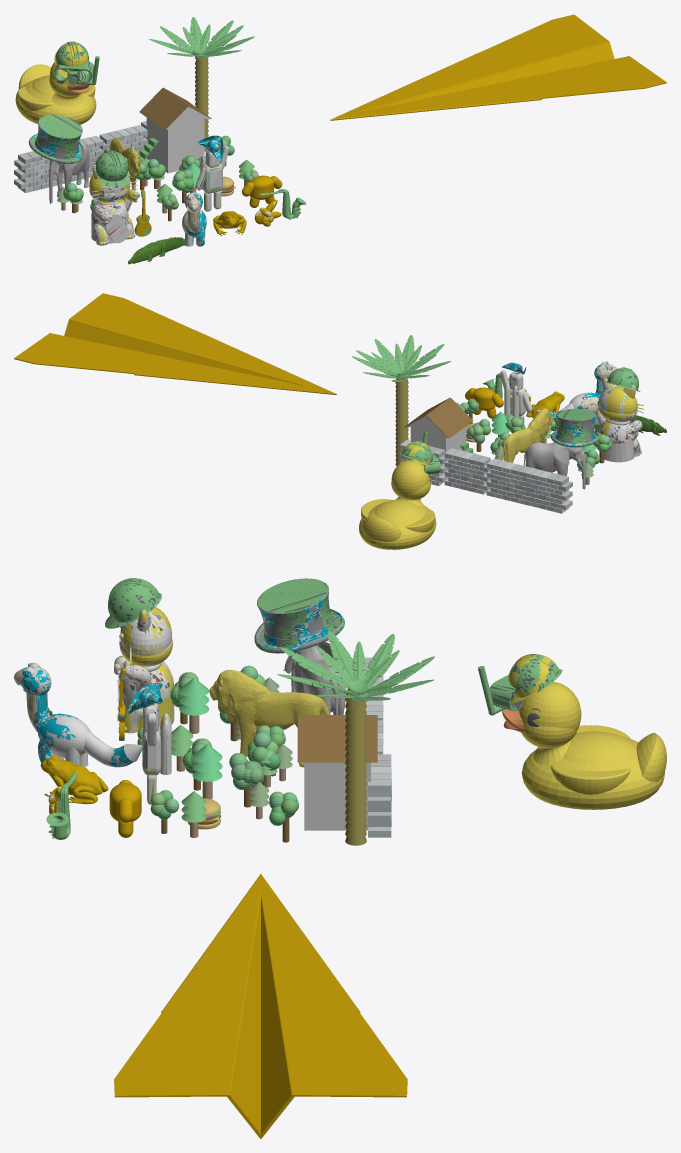
Rendered from actual project.glb.
3 renders of one model, top to bottom at view 1: azimuth 30°, elevation 25°; view 2: azimuth 150°, elevation 25°; view 3: azimuth 270°, elevation 25°, orthographic. The views are drawn at different scales.
Visible parts, largest first — view 1: Mesh_Mesh_head_geo.001_lambert2SG.001; view 2: Mesh_Mesh_head_geo.001_lambert2SG.001; view 3: Mesh_Mesh_head_geo.001_lambert2SG.001.
Part boxes in pixels (x1,y1,x2,y2): Mesh_Mesh_head_geo.001_lambert2SG.001: (14, 14, 666, 264); Mesh_Mesh_head_geo.001_lambert2SG.001: (14, 293, 666, 549); Mesh_Mesh_head_geo.001_lambert2SG.001: (14, 578, 666, 1138).
Bounding box in the file's own units: 627 × 120 × 391.
